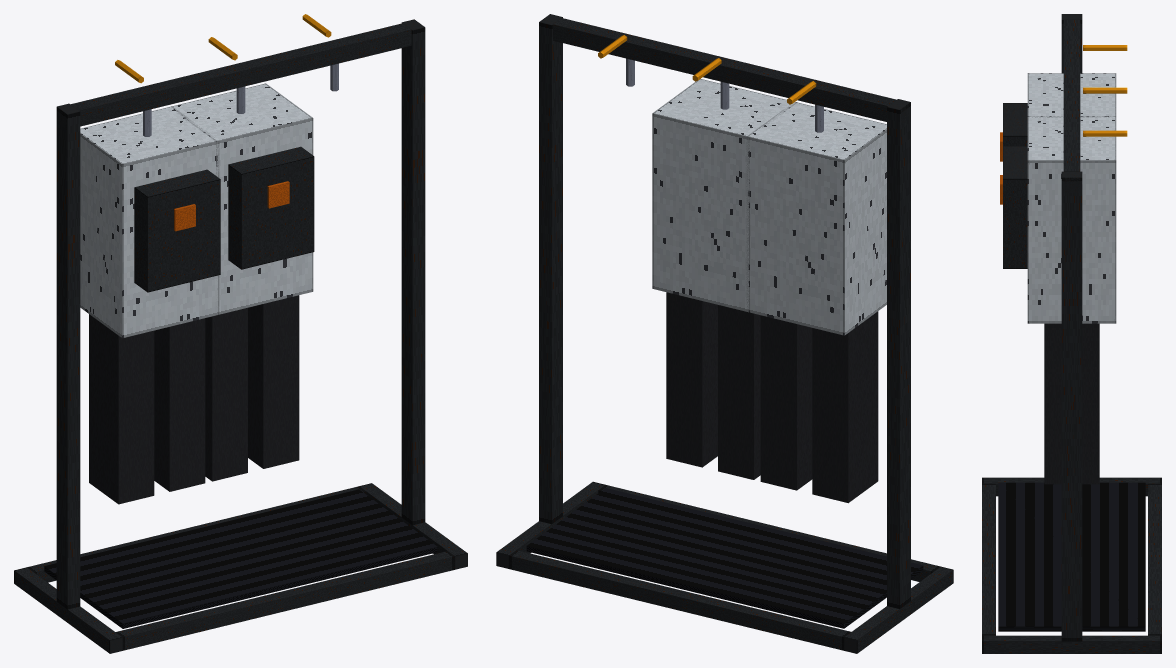
File: suit_rack.glb
The picture shows the model from 3 angles, left to right: view 1: azimuth 30°, elevation 25°; view 2: azimuth 150°, elevation 25°; view 3: azimuth 270°, elevation 25°; orthographic projection. The views are drawn at different scales.
Visible parts, largest first — view 1: suit_rack; view 2: suit_rack; view 3: suit_rack.
Part boxes in pixels (bbox=[...]): suit_rack: bbox=[14, 14, 467, 653]; suit_rack: bbox=[496, 14, 953, 653]; suit_rack: bbox=[982, 14, 1161, 653].
Bounding box in the file's own units: 1.4 × 1.93 × 0.65.
1 material, 1 textured.
